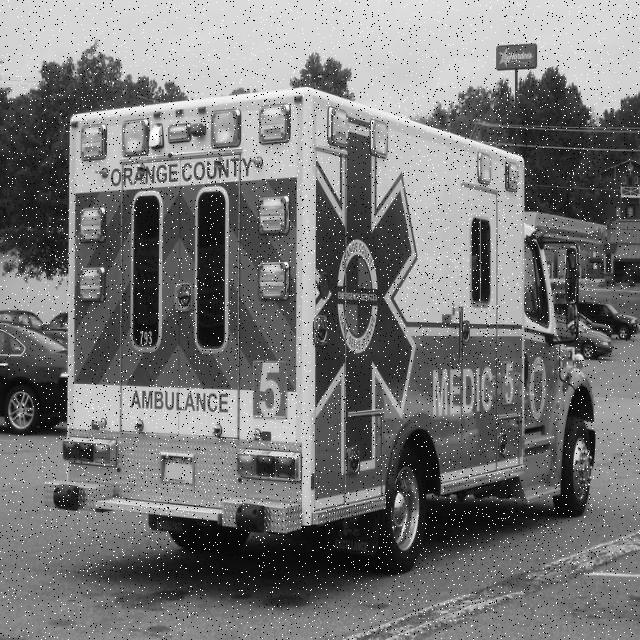Ambulance: (41, 88, 595, 576)
